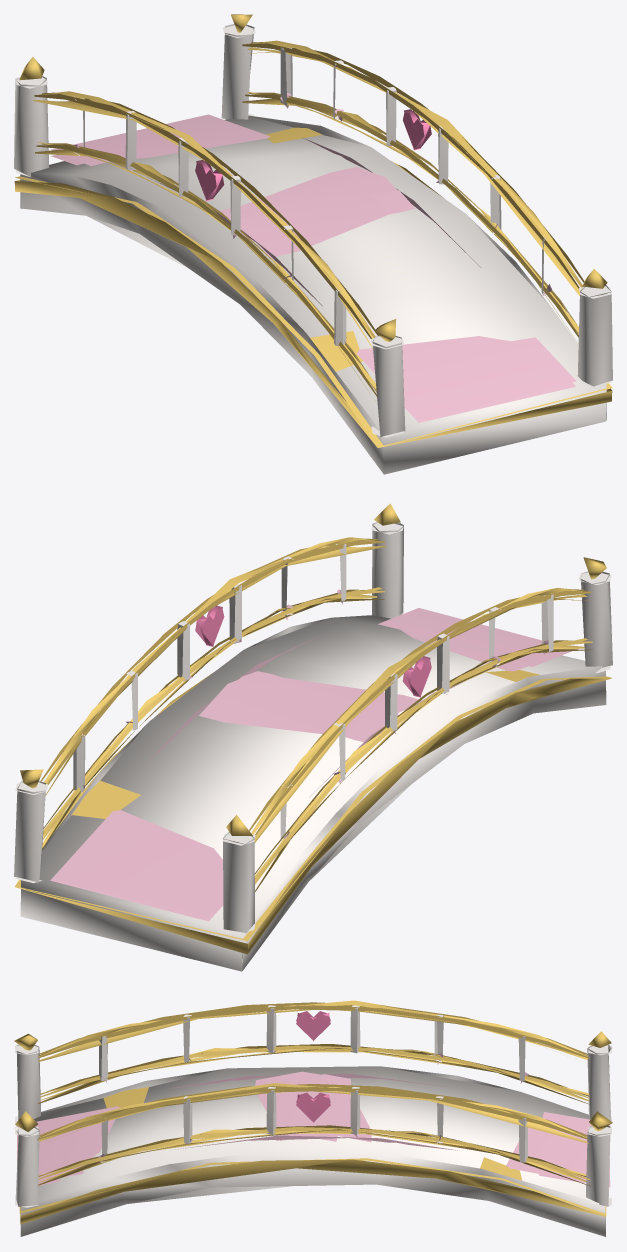
The model's file is lod_bridge_small.glb.
The picture shows the model from 3 angles, top to bottom: view 1: azimuth 30°, elevation 25°; view 2: azimuth 150°, elevation 25°; view 3: azimuth 270°, elevation 25°; orthographic projection. The views are drawn at different scales.
Parts seen in each view (by area): view 1: bridge_small; view 2: bridge_small; view 3: bridge_small.
Part boxes in pixels (left/top/right/bottom): bridge_small: left=14, top=14, right=612, bottom=474; bridge_small: left=14, top=503, right=612, bottom=971; bridge_small: left=14, top=1000, right=612, bottom=1236.
Size of the model in its own units: 3.18 by 2.38 by 8.57.
